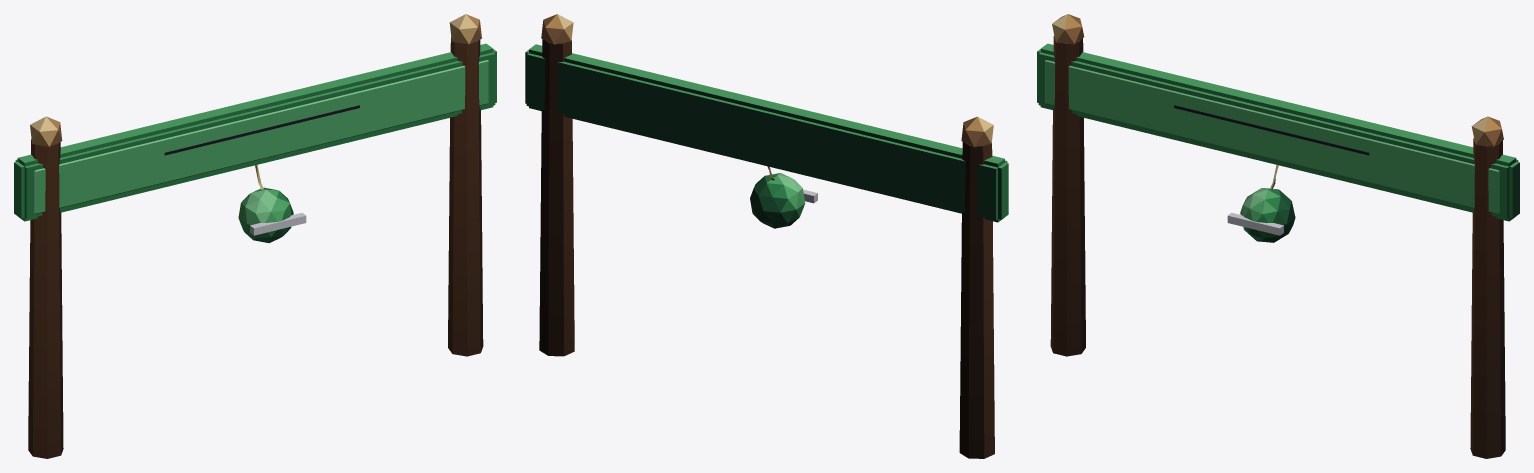
Rendered from safari_gate.glb.
3 renders of one model, left to right at view 1: azimuth 30°, elevation 25°; view 2: azimuth 150°, elevation 25°; view 3: azimuth 330°, elevation 25°, orthographic.
Parts seen in each view (by area): view 1: safari_gate; view 2: safari_gate; view 3: safari_gate.
Boxes of the visible parts, <box> form: safari_gate: <box>14,14,496,458</box>; safari_gate: <box>525,14,1008,458</box>; safari_gate: <box>1037,14,1519,458</box>.
Bounding box in the file's own units: 2.72 × 1.83 × 0.33.
